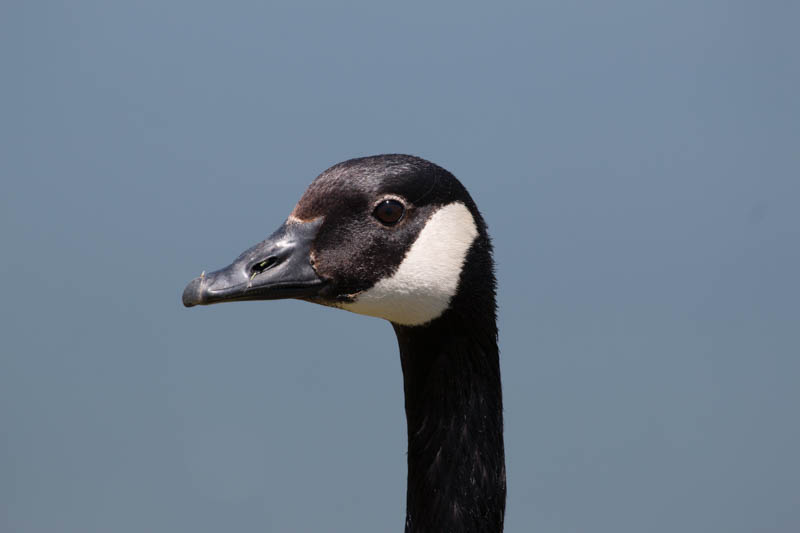goose-head: (181, 154, 496, 326)
